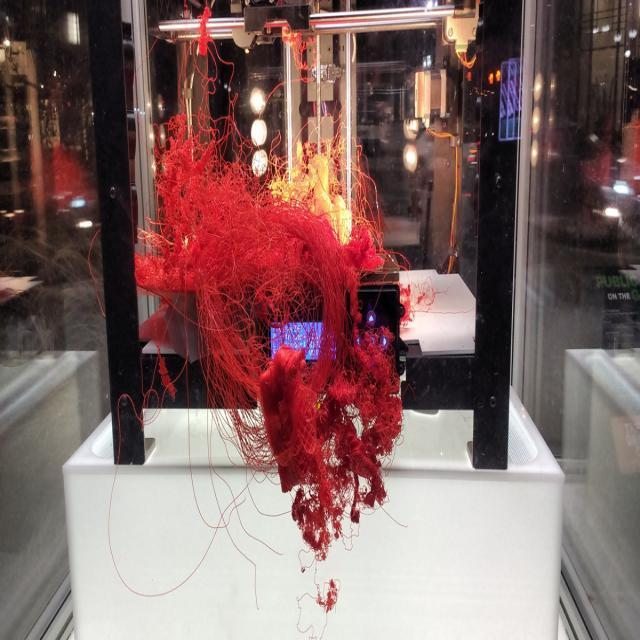Spaghetti: (159, 151, 418, 517)
